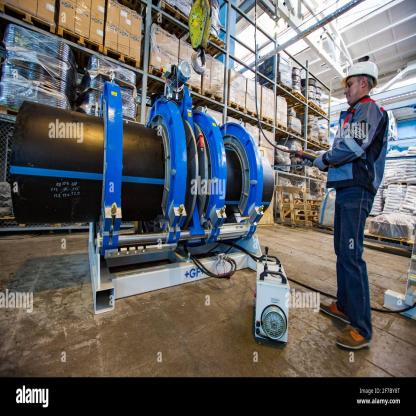PVC: (8, 101, 104, 221), (120, 119, 171, 220), (225, 141, 244, 209)
